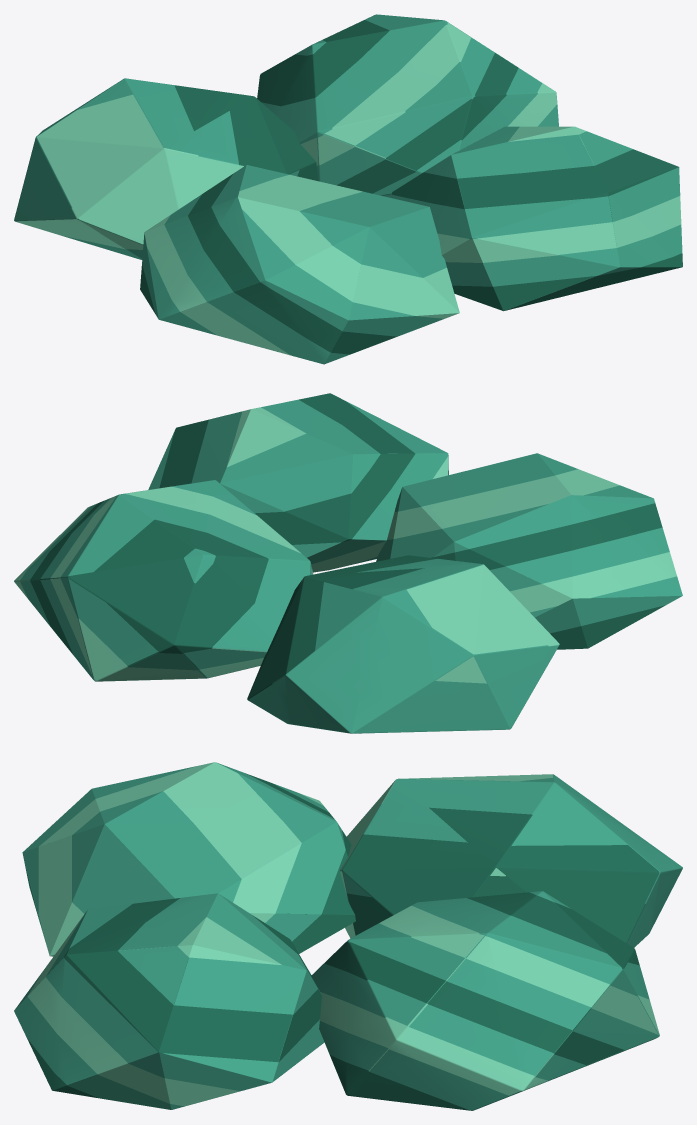
Rendered from minerai_cuivre_1.glb.
3 views of the same model, one above another, from view 1: azimuth 30°, elevation 25°; view 2: azimuth 150°, elevation 25°; view 3: azimuth 270°, elevation 25° (orthographic). The views are drawn at different scales.
Visible parts, largest first — view 1: minerai_malachite.004, minerai_malachite_claire.004, minerai_malachite_sombre.004; view 2: minerai_malachite.004, minerai_malachite_sombre.004, minerai_malachite_claire.004; view 3: minerai_malachite.004, minerai_malachite_sombre.004, minerai_malachite_claire.004.
Boxes of the visible parts, left/top/right/bottom form: minerai_malachite.004: left=14, top=14, right=682, bottom=364; minerai_malachite_claire.004: left=15, top=22, right=681, bottom=355; minerai_malachite_sombre.004: left=140, top=15, right=682, bottom=354; minerai_malachite.004: left=20, top=399, right=682, bottom=733; minerai_malachite_sombre.004: left=30, top=393, right=665, bottom=733; minerai_malachite_claire.004: left=14, top=406, right=676, bottom=733; minerai_malachite.004: left=14, top=762, right=682, bottom=1110; minerai_malachite_sombre.004: left=25, top=773, right=659, bottom=1110; minerai_malachite_claire.004: left=27, top=762, right=659, bottom=1106.
Size of the model in its own units: 0.5341 by 0.1169 by 0.5349.
